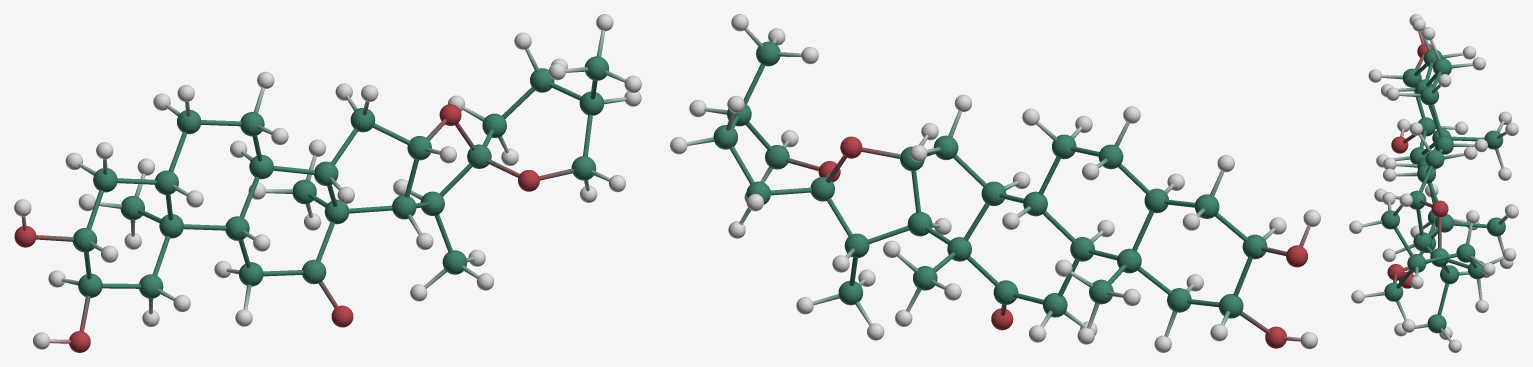
The model's file is Manogenin.fbx.
3 views of the same model, side by side, from view 1: azimuth 30°, elevation 25°; view 2: azimuth 150°, elevation 25°; view 3: azimuth 270°, elevation 25° (orthographic). The views are drawn at different scales.
Visible parts, largest first — view 1: curMeshHyperballExportedMesh; view 2: curMeshHyperballExportedMesh; view 3: curMeshHyperballExportedMesh.
Boxes of the visible parts, x1,y1,x2,y2 form: curMeshHyperballExportedMesh: (14, 14, 641, 352); curMeshHyperballExportedMesh: (670, 14, 1320, 352); curMeshHyperballExportedMesh: (1349, 14, 1518, 352).
Size of the model in its own units: 16.63 by 7.18 by 5.03.
